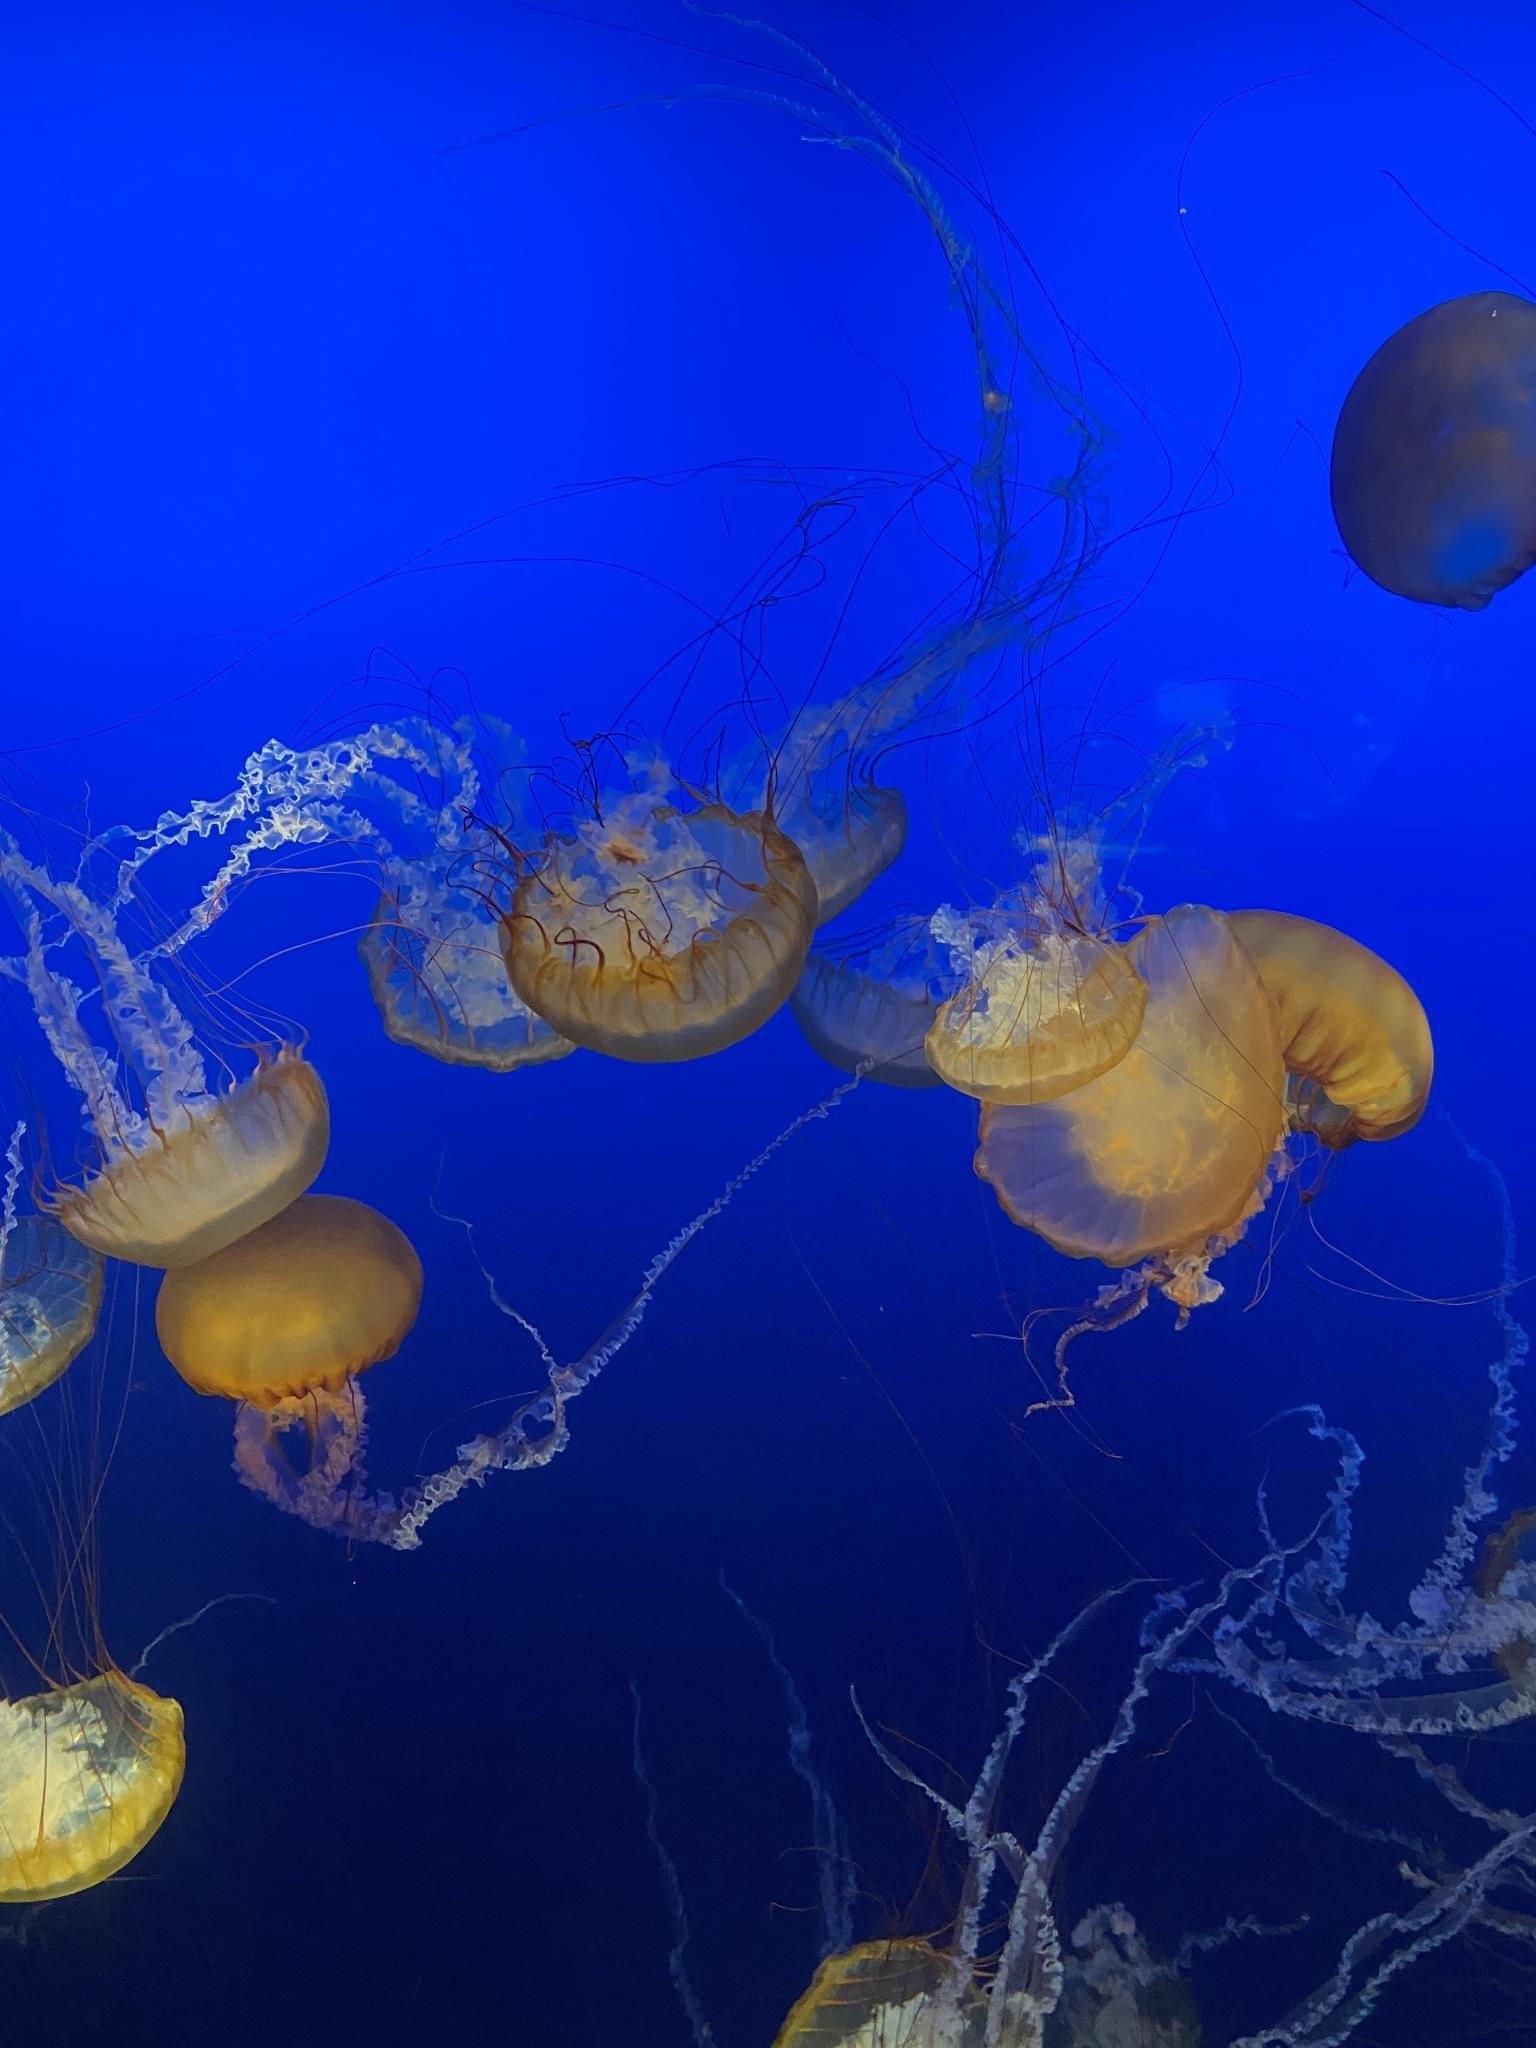jellyfish: (955, 892, 1284, 1268), (508, 787, 820, 1064), (1329, 284, 1534, 613), (47, 1042, 332, 1271), (363, 839, 615, 1076), (1208, 900, 1434, 1153), (145, 1203, 424, 1405), (0, 1617, 186, 1903), (925, 932, 1146, 1101), (766, 1935, 1054, 2046), (778, 950, 971, 1097), (755, 760, 920, 926), (0, 1221, 108, 1442)
